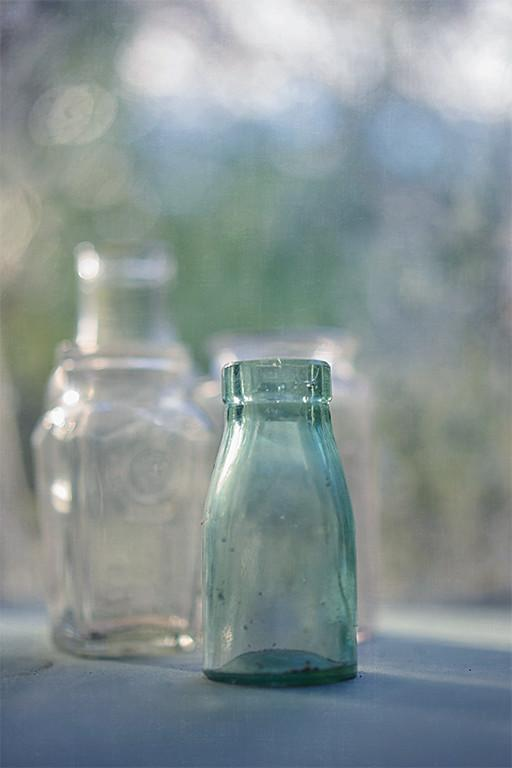bottle: (30, 240, 216, 660), (201, 357, 359, 688)
